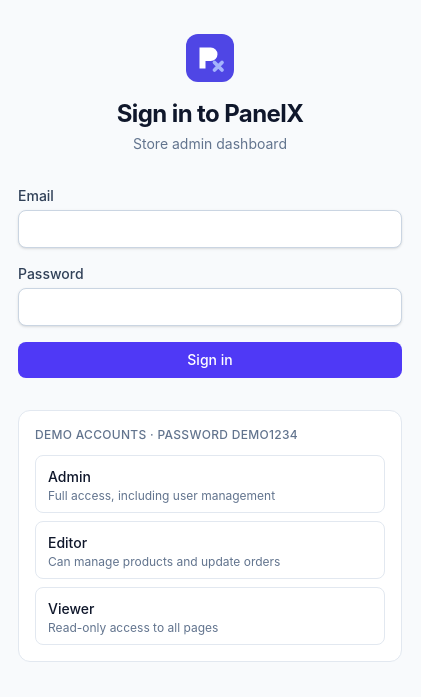
login › shows an error for a wrong password
Type "admin@panelx.dev" into the field labelled "Email". click: (210, 229)
box: top-left (18, 210), bottom-right (402, 248)
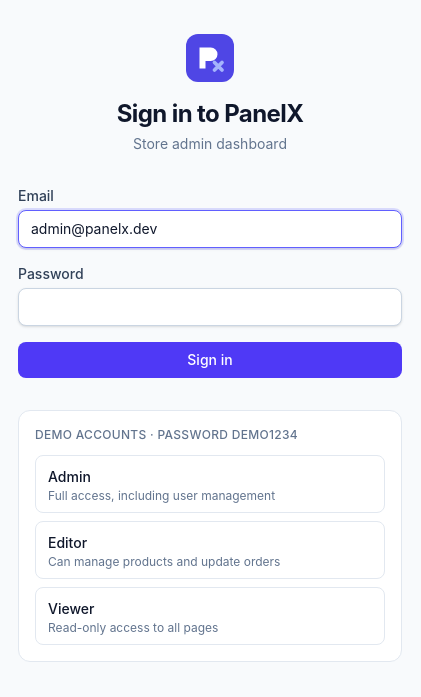
Type "wrong" into the password field labelled "Password". click: (210, 307)
box: top-left (18, 288), bottom-right (402, 326)
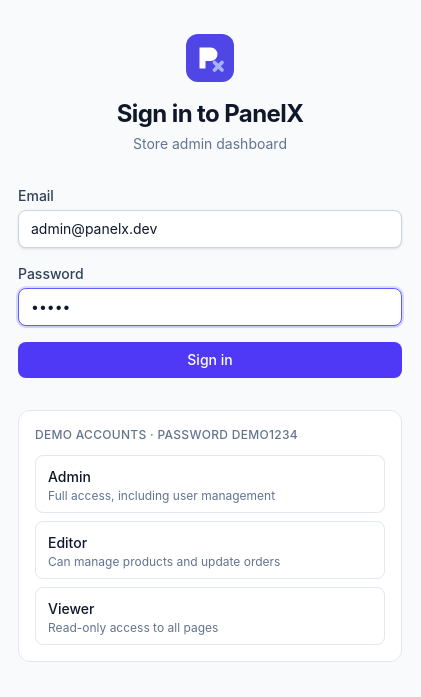
Click the button "Sign in". click: click(210, 360)
box: top-left (18, 342), bottom-right (402, 378)
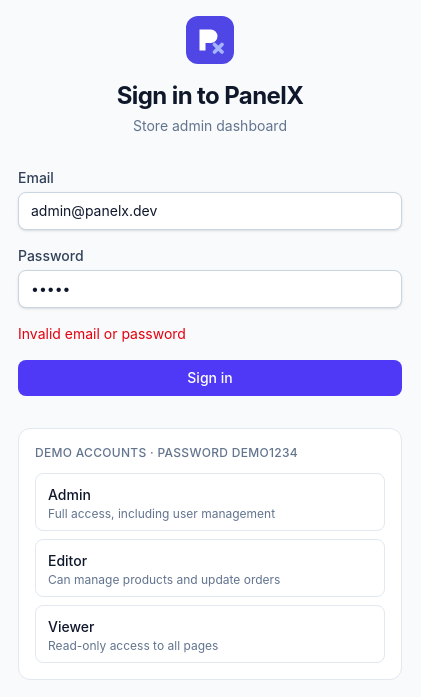
Expected: the message reads "Invalid email or password", top-left (18, 325), bottom-right (186, 342)
